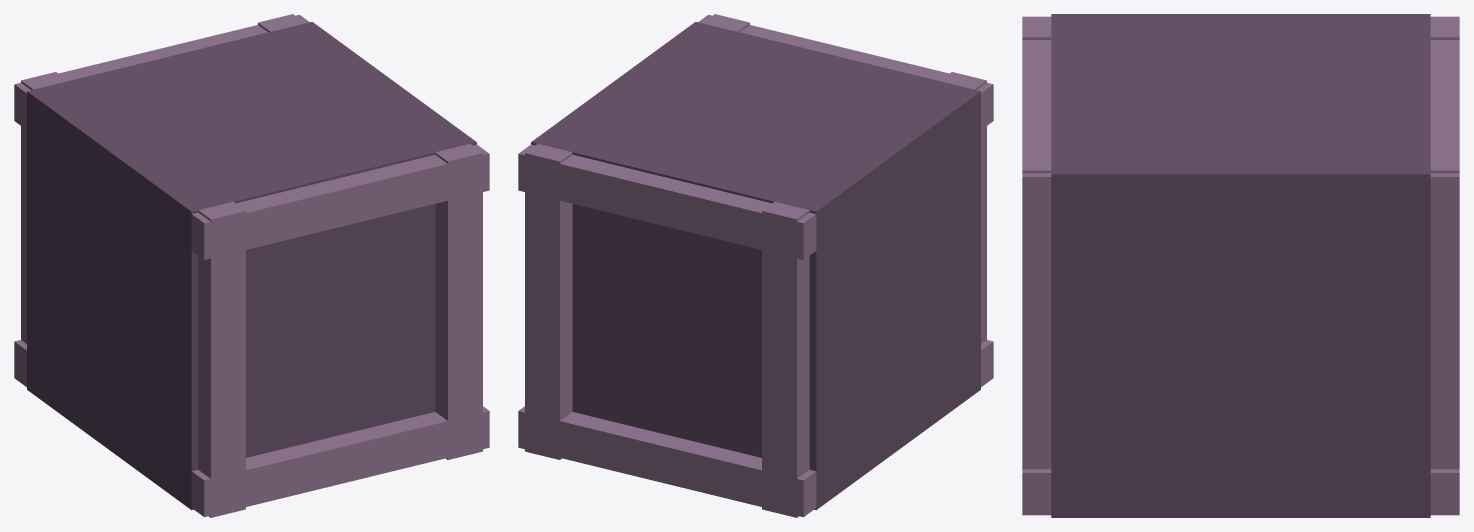
The model's file is TW_CRATE_SMALL_A_LOD0.glb.
3 renders of one model, left to right at view 1: azimuth 30°, elevation 25°; view 2: azimuth 150°, elevation 25°; view 3: azimuth 270°, elevation 25°, orthographic. The views are drawn at different scales.
Parts seen in each view (by area): view 1: TW_CRATE_SMALL_A_LOD0; view 2: TW_CRATE_SMALL_A_LOD0; view 3: TW_CRATE_SMALL_A_LOD0.
Part boxes in pixels (x1,y1,x2,y2): TW_CRATE_SMALL_A_LOD0: (14,14,489,517); TW_CRATE_SMALL_A_LOD0: (518,14,993,517); TW_CRATE_SMALL_A_LOD0: (1022,14,1459,517).
Size of the model in its own units: 0.65 by 0.65 by 0.75.
1 material, 1 textured.
